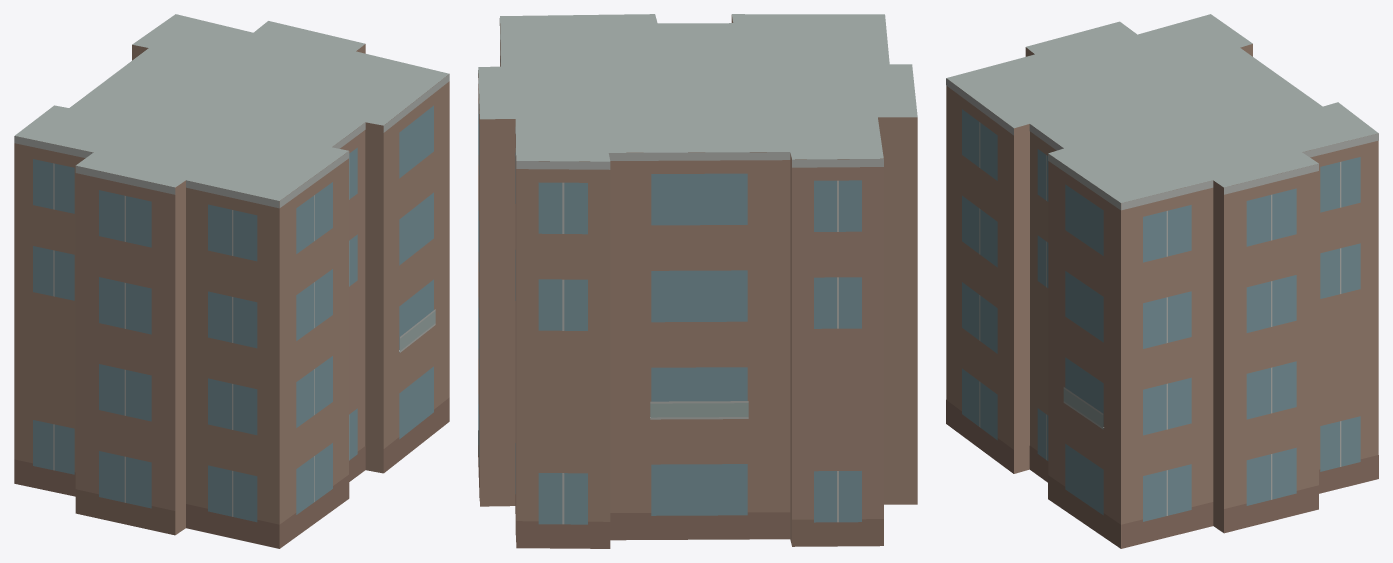
File: survey-upis-32736707.glb
3 views of the same model, side by side, from view 1: azimuth 30°, elevation 25°; view 2: azimuth 150°, elevation 25°; view 3: azimuth 270°, elevation 25° (orthographic). The views are drawn at different scales.
Visible parts, largest first — view 1: survey-upis-32736707.tmp; view 2: survey-upis-32736707.tmp; view 3: survey-upis-32736707.tmp.
Part boxes in pixels (box(x1,y1,x2,y2)): survey-upis-32736707.tmp: box(14, 14, 449, 548); survey-upis-32736707.tmp: box(478, 14, 917, 548); survey-upis-32736707.tmp: box(946, 14, 1378, 548).
Bounding box in the file's own units: 13.5 × 11.5 × 13.05.
